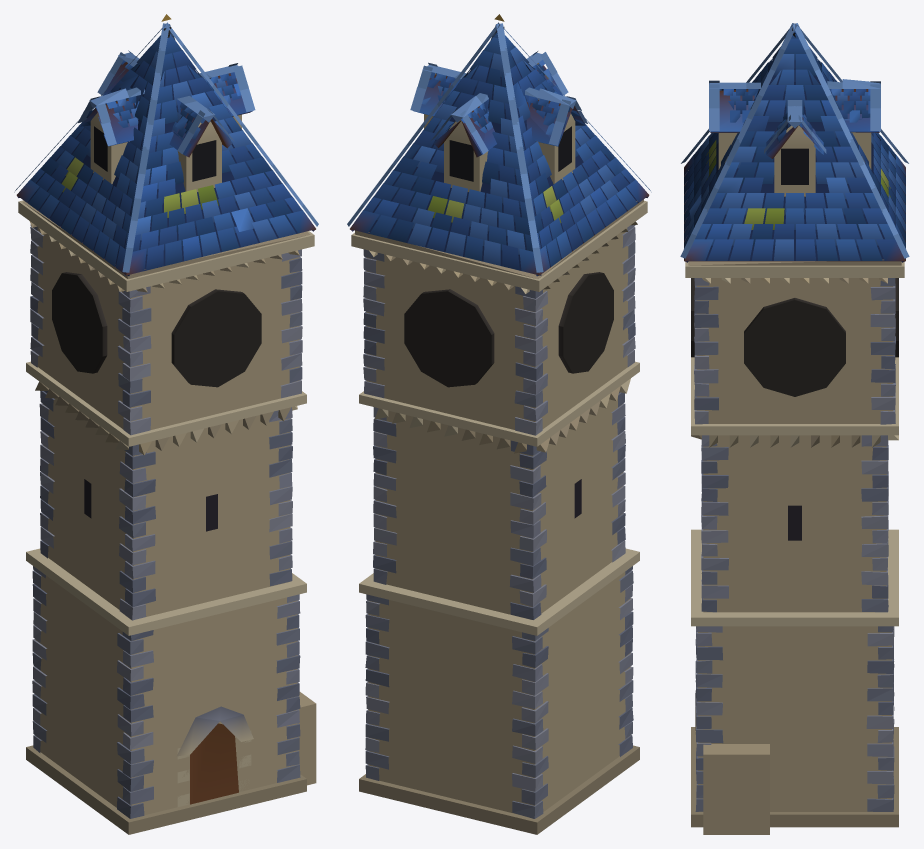
File: town_clock_tower-lod1.glb
3 renders of one model, left to right at view 1: azimuth 30°, elevation 25°; view 2: azimuth 150°, elevation 25°; view 3: azimuth 270°, elevation 25°, orthographic.
Visible parts, largest first — view 1: town_clock_tower; view 2: town_clock_tower; view 3: town_clock_tower.
Part boxes in pixels (x1,y1,x2,y2): town_clock_tower: [14, 14, 318, 834]; town_clock_tower: [347, 14, 651, 834]; town_clock_tower: [680, 23, 909, 834].
Size of the model in its own units: 8.53 by 30.61 by 8.27.
